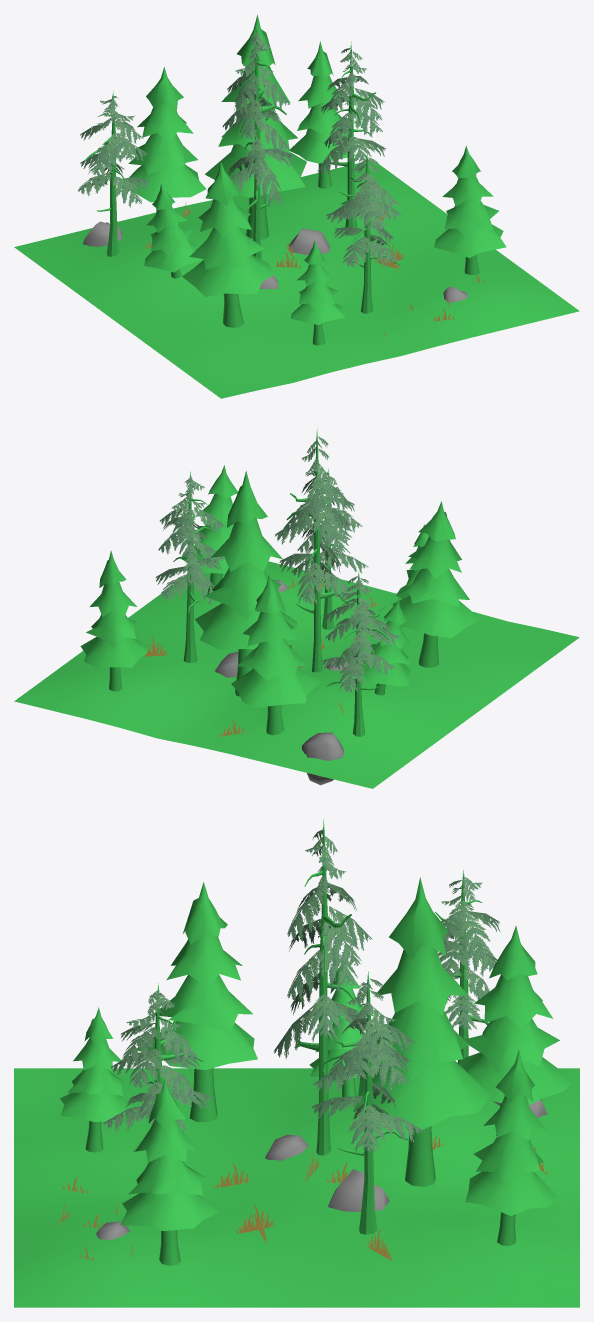
The model's file is Forest1.fbx.
3 views of the same model, one above another, from view 1: azimuth 30°, elevation 25°; view 2: azimuth 150°, elevation 25°; view 3: azimuth 270°, elevation 25° (orthographic). The views are drawn at different scales.
Visible parts, largest first — view 1: polySurface260; view 2: polySurface260; view 3: polySurface260.
Part boxes in pixels (x1,y1,x2,y2): polySurface260: (14, 14, 579, 398); polySurface260: (14, 428, 579, 788); polySurface260: (14, 819, 579, 1307).
Bounding box in the file's own units: 1 × 0.7575 × 1.
